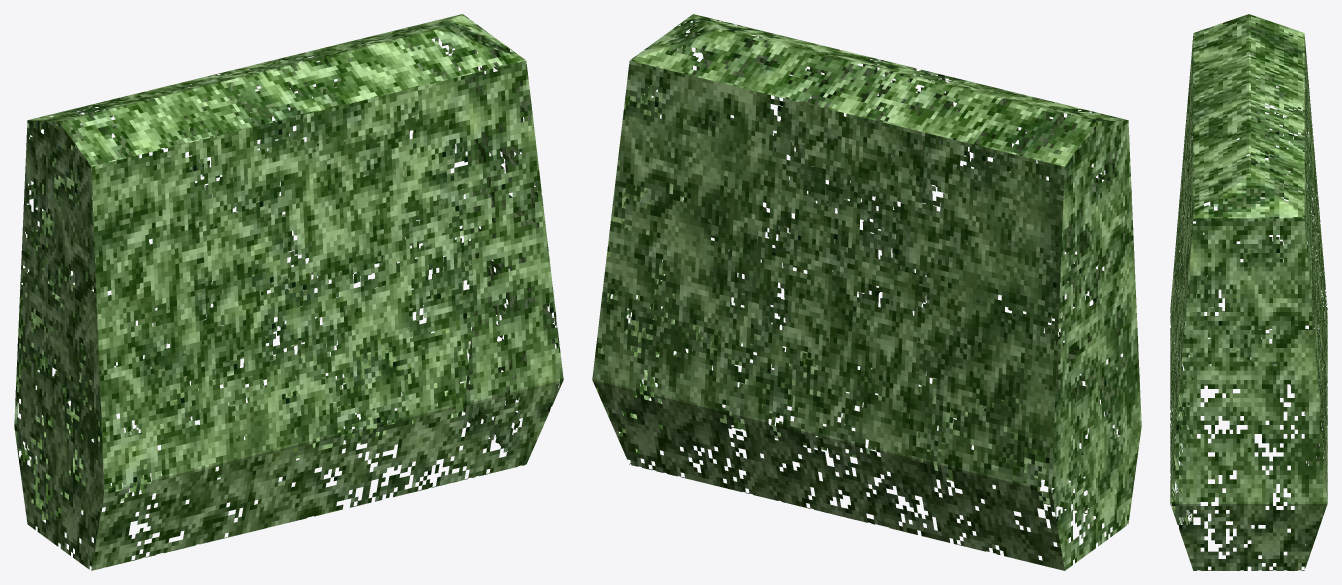
The model's file is bush_tall_open_right_summer.glb.
3 renders of one model, left to right at view 1: azimuth 30°, elevation 25°; view 2: azimuth 150°, elevation 25°; view 3: azimuth 270°, elevation 25°, orthographic. The views are drawn at different scales.
Visible parts, largest first — view 1: bush_tall_open_right_summer; view 2: bush_tall_open_right_summer; view 3: bush_tall_open_right_summer.
Boxes of the visible parts, <box> form: bush_tall_open_right_summer: <box>14,14,563,570</box>; bush_tall_open_right_summer: <box>592,14,1141,570</box>; bush_tall_open_right_summer: <box>1170,14,1327,570</box>.
Bounding box in the file's own units: 2.12 × 1.88 × 0.7191.
Materials: 1 (1 with a texture image).
